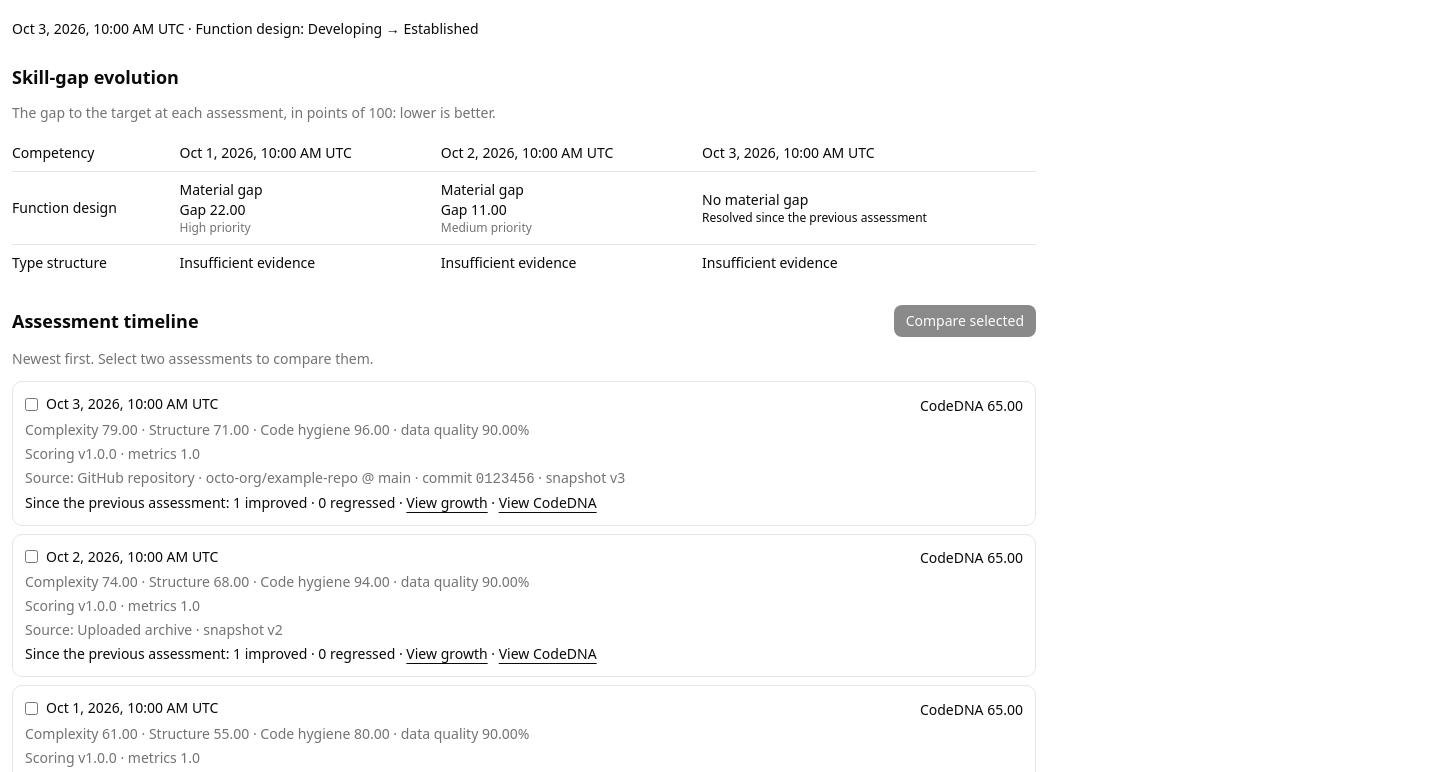
Test: HistoryView › shows a comparison error without losing the history
(page scrolled)
Click the checkbox labelled "Oct 3, 2026, 10:00 AM UTC" at (32, 404), box [25, 398, 38, 411]
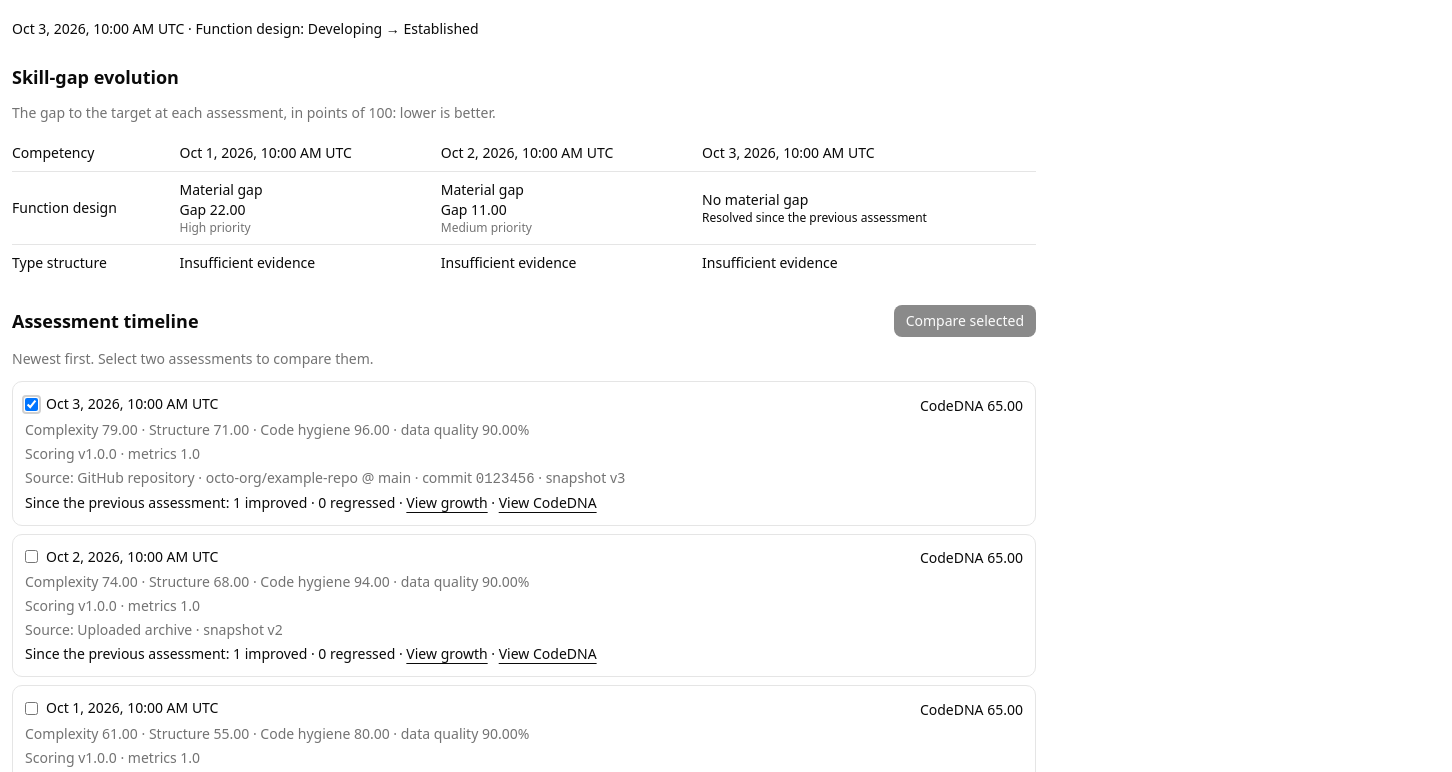
Click the checkbox labelled "Oct 2, 2026, 10:00 AM UTC" at (32, 557), box [25, 550, 38, 563]
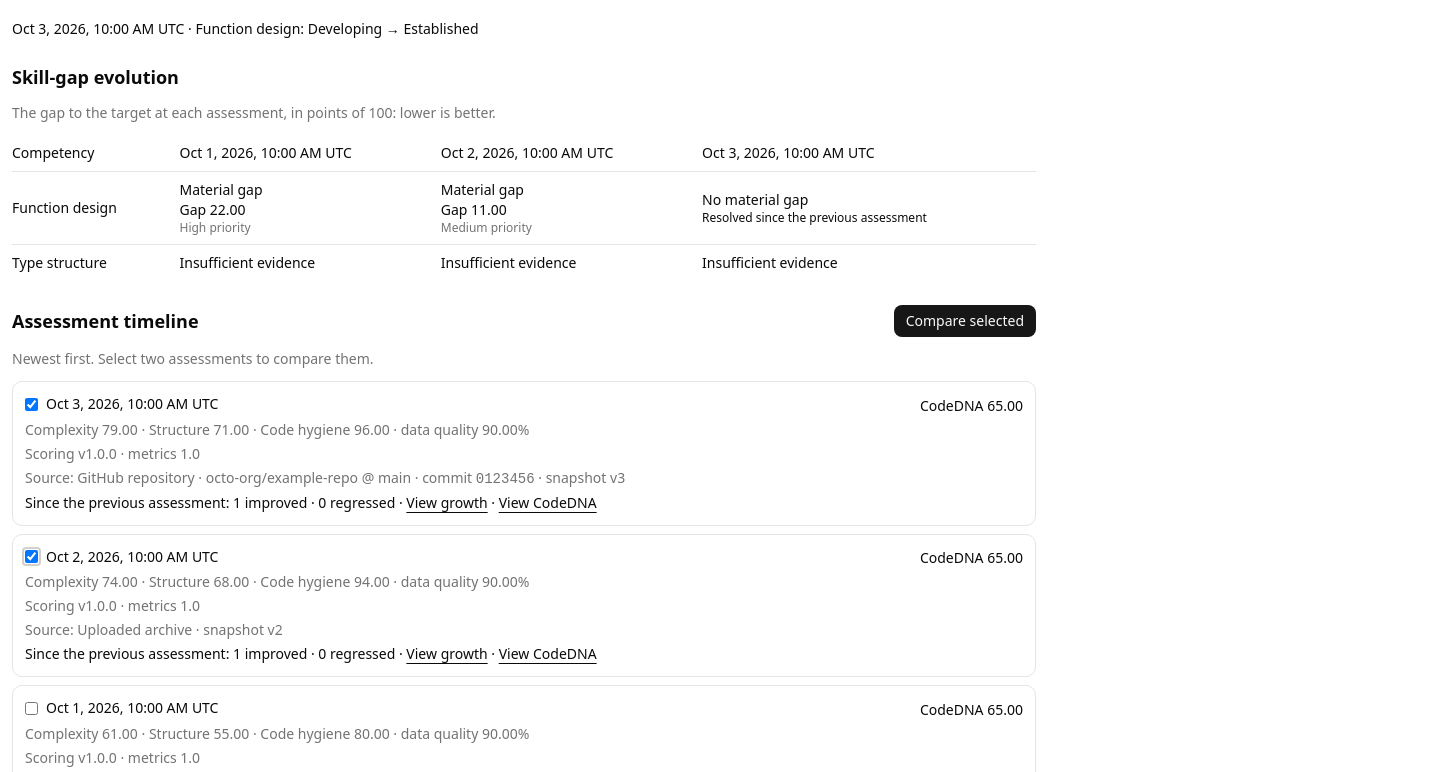
Click the button with test id "history-compare" at (965, 321), box [894, 305, 1036, 337]
(page scrolled)
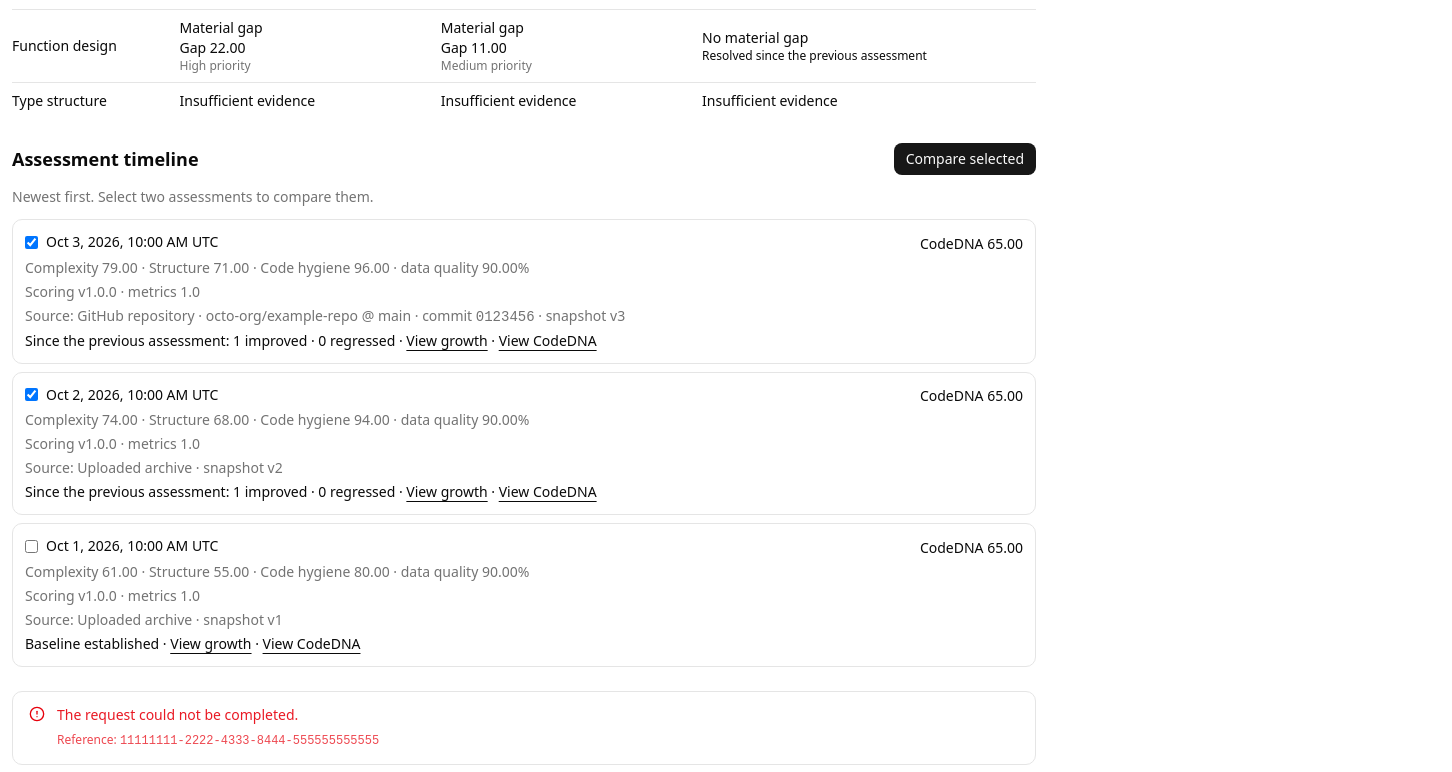
Expected: the element with test id "history-timeline" is shown, [12, 143, 1036, 667]
Result: the message is shown at [12, 691, 1036, 765]
